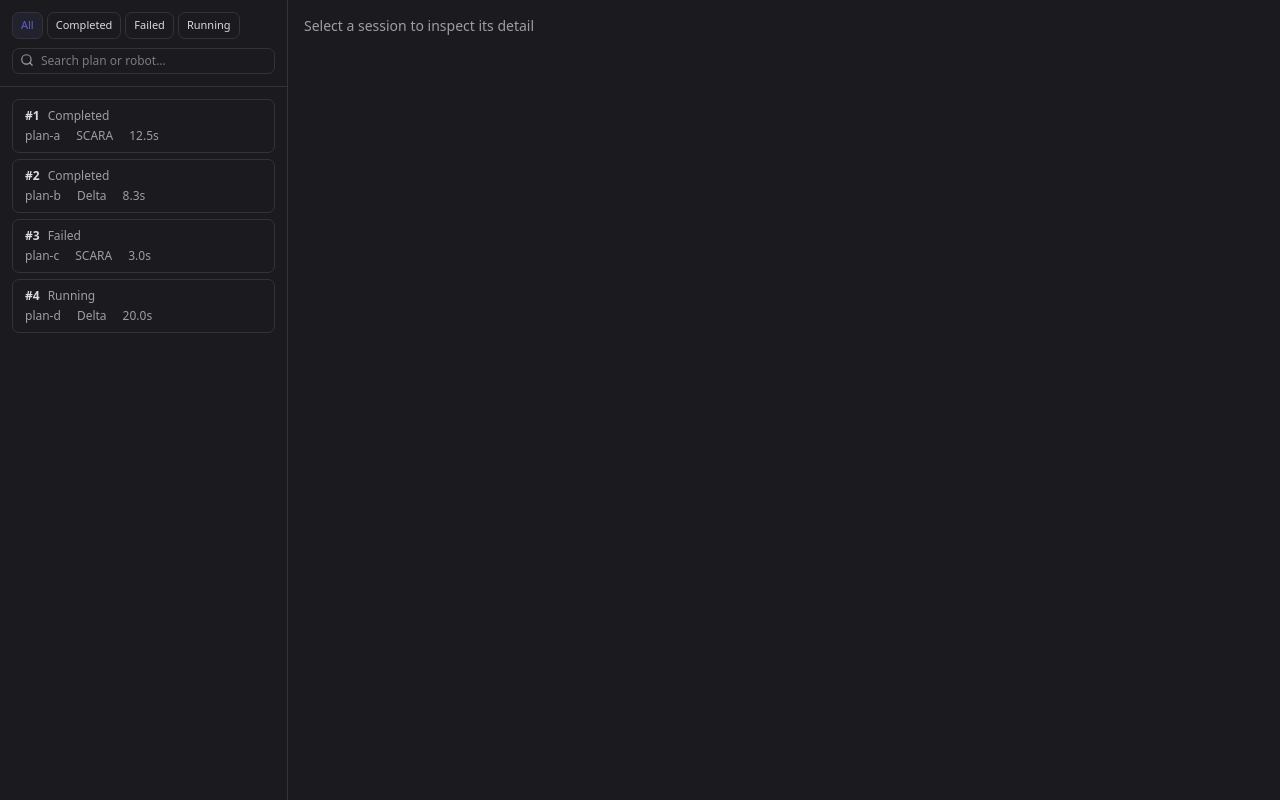
Test: SessionBrowser — master-detail (session-manager spec) › loads the detail pane (summary + statistics) when a session is selected
Step 1. Click the button "#1 Completed plan-a SCARA 12.5s" → (144, 126), box [12,98,275,152]
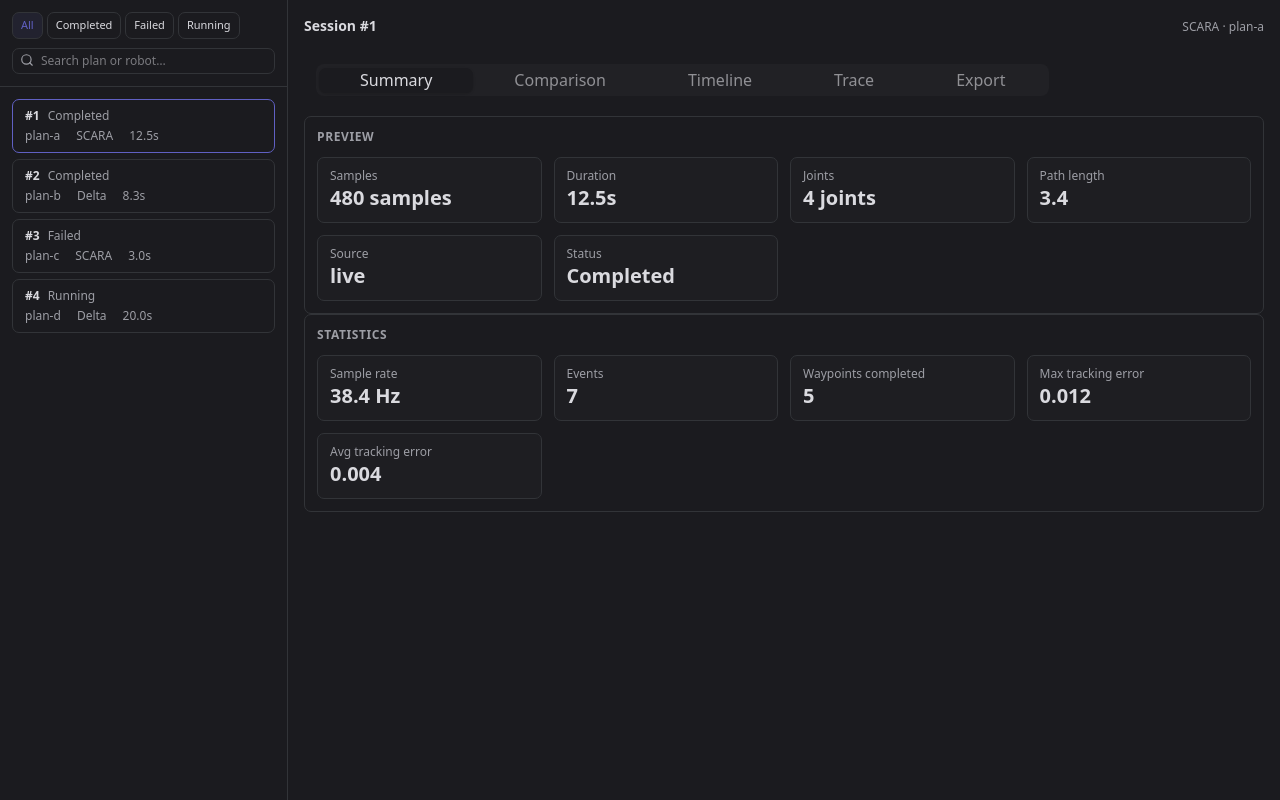
Now the text "480 samples" is shown, box [330,184,452,211]
